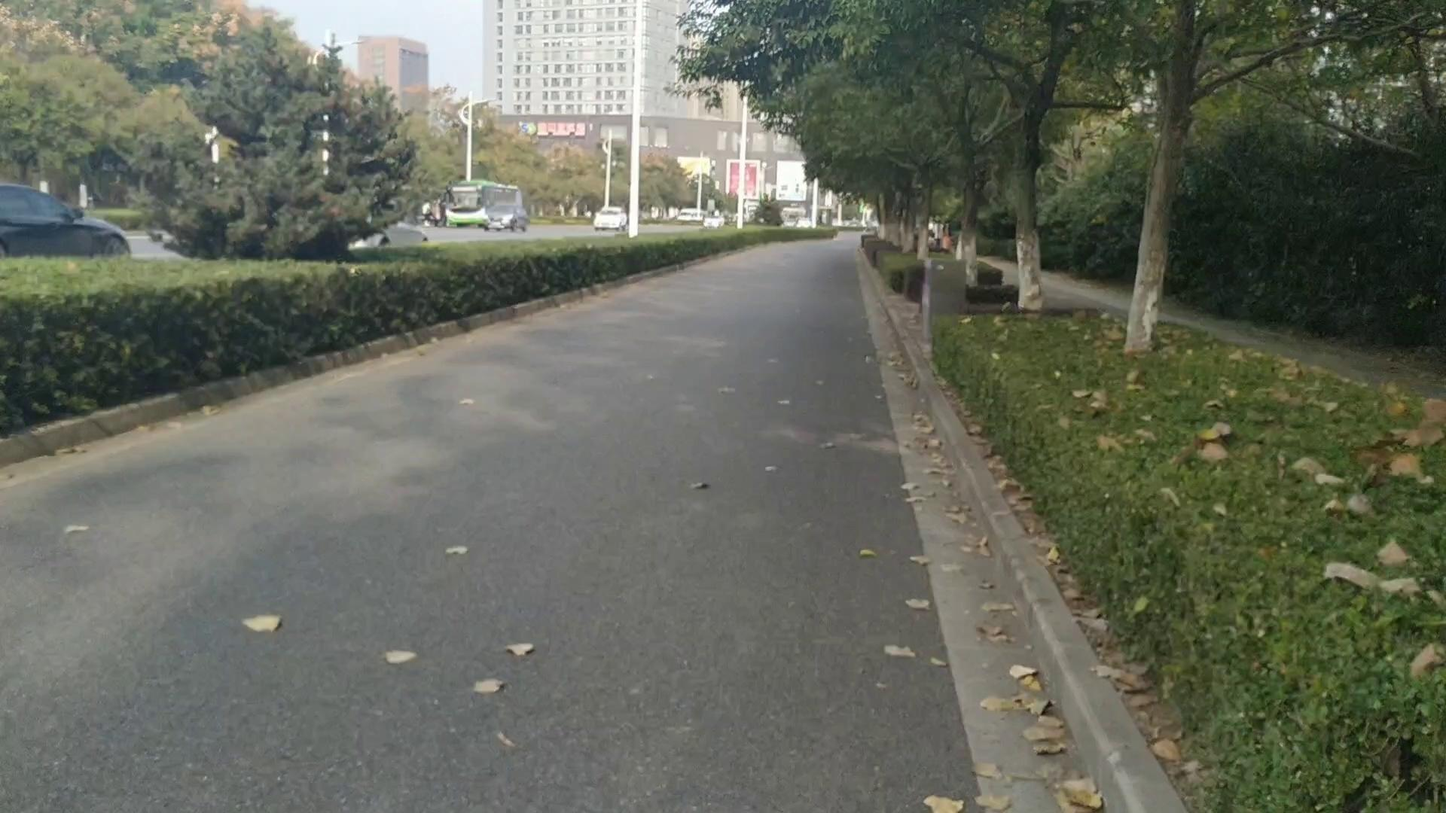car: (0, 183, 132, 260), (484, 197, 529, 233), (593, 207, 627, 232), (674, 209, 709, 225)
